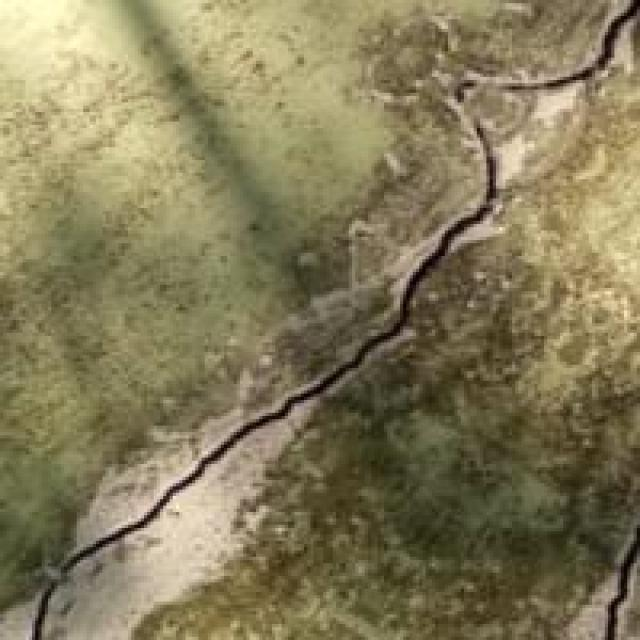Crack: (32, 0, 634, 637)
